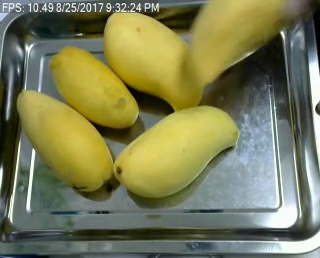Mango: (113, 106, 238, 197), (101, 7, 206, 113), (16, 88, 113, 190), (192, 1, 292, 86), (50, 47, 140, 128)
